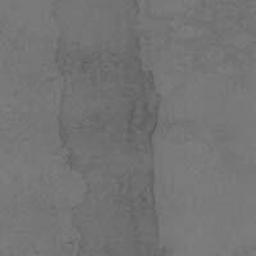Water spot: (50, 0, 168, 256)
